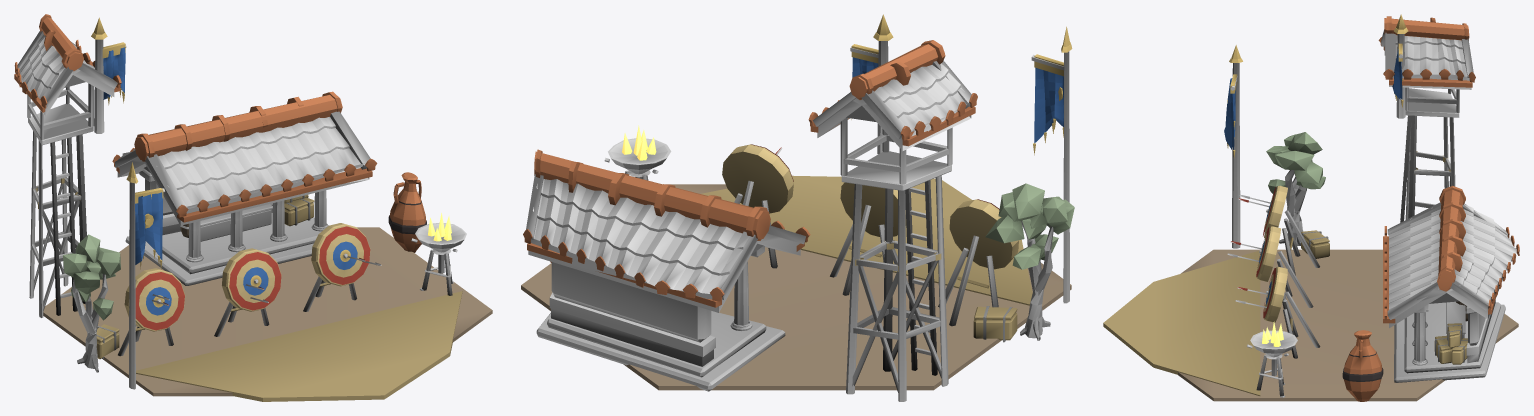
Rendered from archer-camp-l1.glb.
The picture shows the model from 3 angles, left to right: view 1: azimuth 30°, elevation 25°; view 2: azimuth 150°, elevation 25°; view 3: azimuth 270°, elevation 25°; orthographic projection. The views are drawn at different scales.
Parts seen in each view (by area): view 1: archer-camp-l1; view 2: archer-camp-l1; view 3: archer-camp-l1.
Part boxes in pixels (left/top/right/bottom): archer-camp-l1: left=14, top=14, right=492, bottom=401; archer-camp-l1: left=521, top=14, right=1074, bottom=401; archer-camp-l1: left=1103, top=14, right=1519, bottom=401.
Size of the model in its own units: 1.6 by 1.13 by 1.63.
